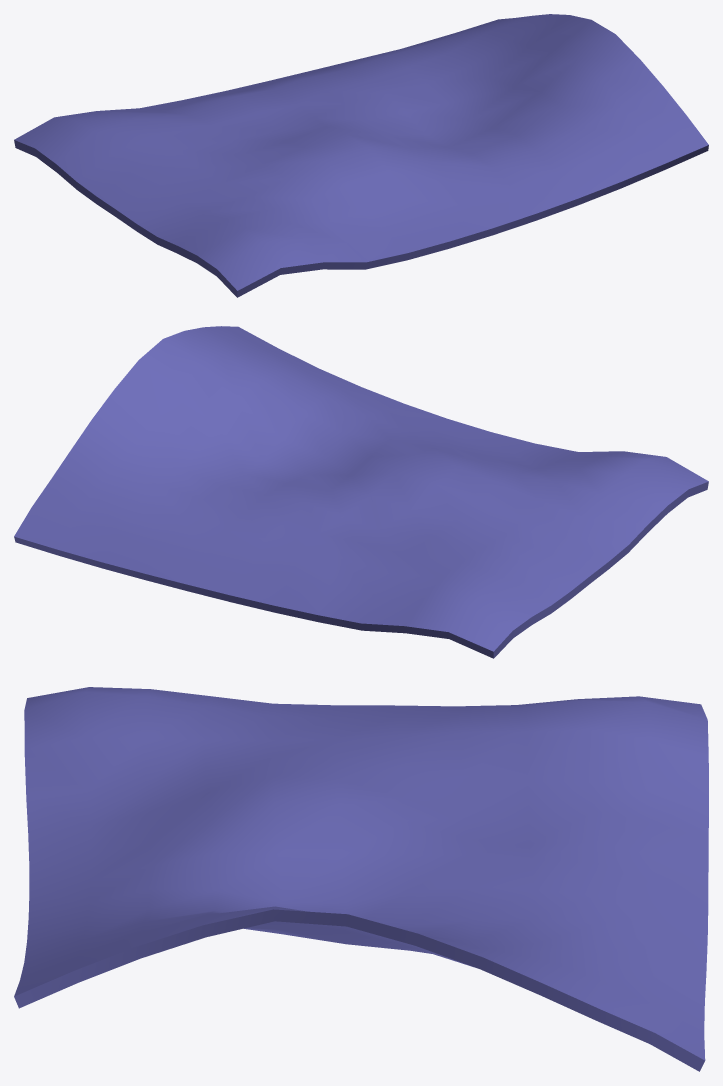
The model's file is SM_Blanket.fbx.
3 renders of one model, top to bottom at view 1: azimuth 30°, elevation 25°; view 2: azimuth 150°, elevation 25°; view 3: azimuth 270°, elevation 25°, orthographic. The views are drawn at different scales.
Parts seen in each view (by area): view 1: SM_Blanket; view 2: SM_Blanket; view 3: SM_Blanket.
Part boxes in pixels (box(x1,y1,x2,y2)): SM_Blanket: box(14, 14, 708, 297); SM_Blanket: box(14, 326, 708, 658); SM_Blanket: box(14, 687, 708, 1071).
Size of the model in its own units: 451 by 97.15 by 370.
